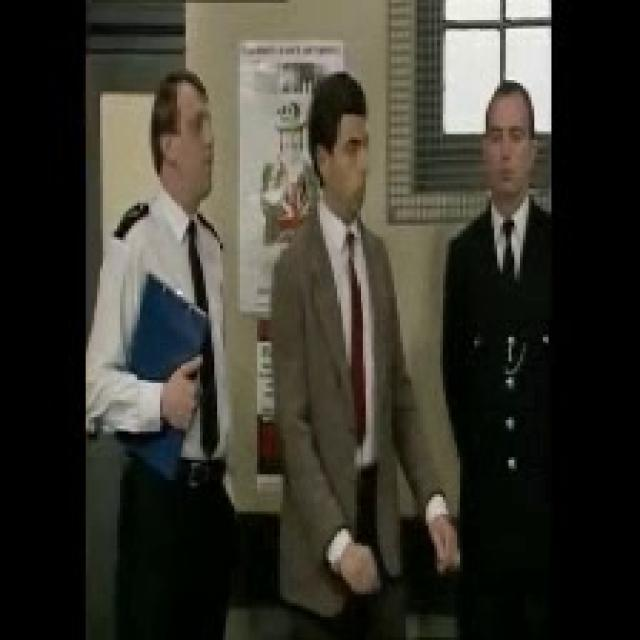non_violence: (266, 73, 444, 640), (90, 77, 246, 640), (438, 77, 550, 640)
